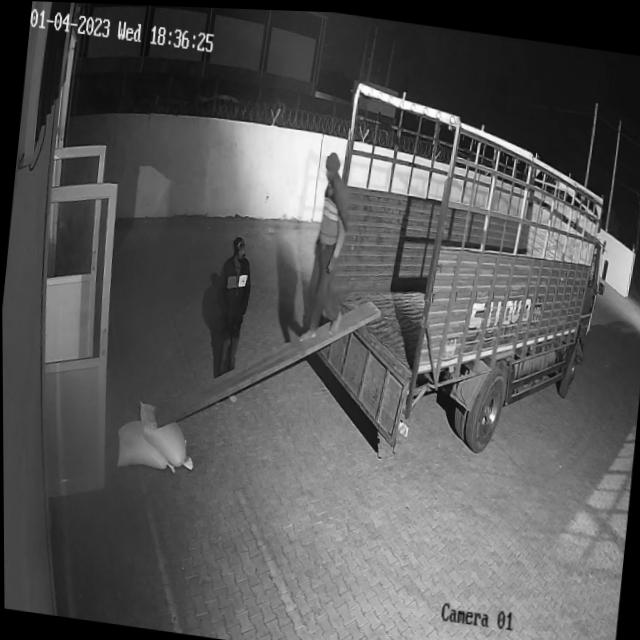sack: (132, 398, 198, 467), (114, 415, 178, 473)
